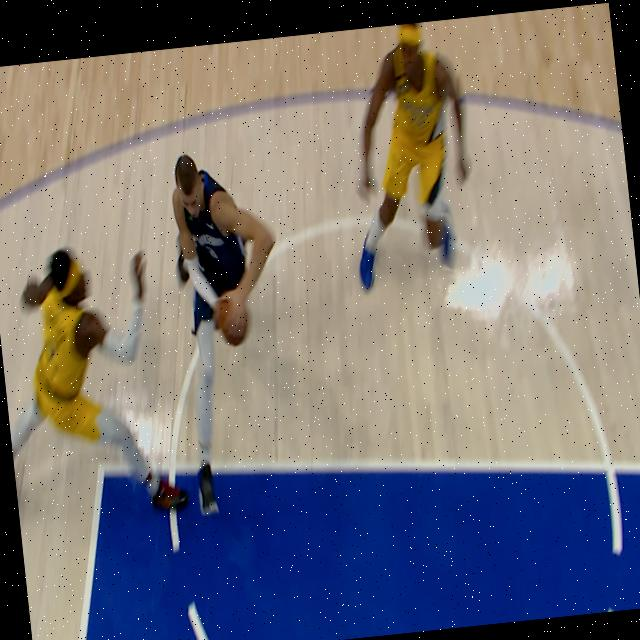no foul: (0, 109, 313, 561), (307, 12, 504, 317)
